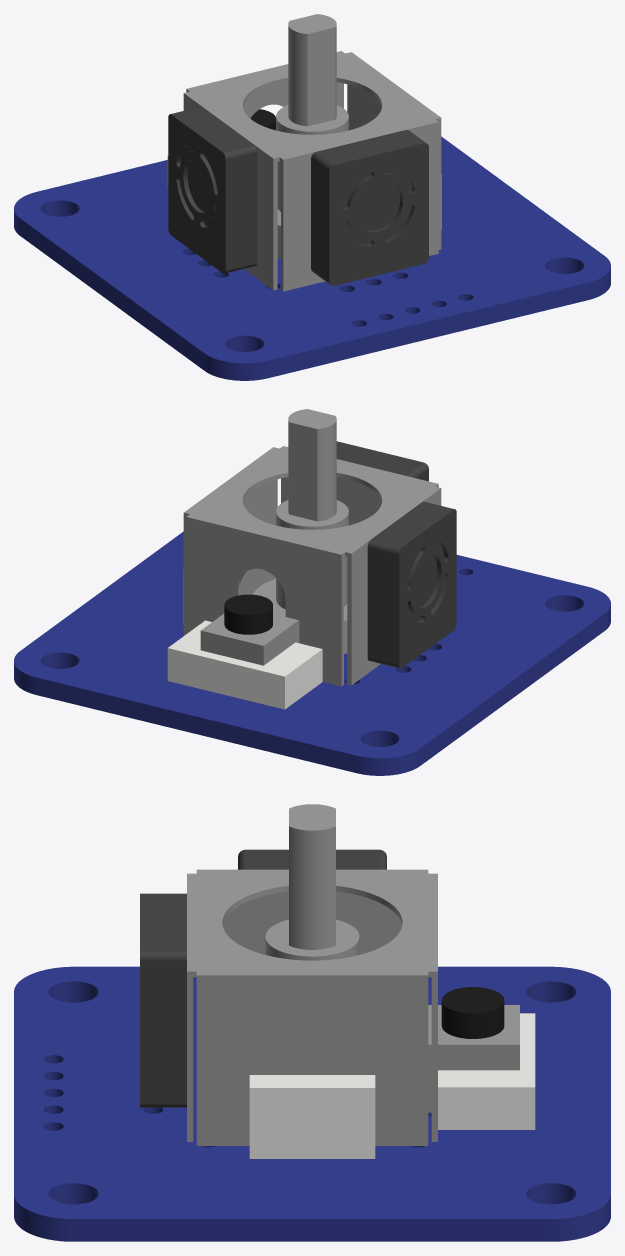
File: joystick.glb
3 views of the same model, one above another, from view 1: azimuth 30°, elevation 25°; view 2: azimuth 150°, elevation 25°; view 3: azimuth 270°, elevation 25° (orthographic). The views are drawn at different scales.
Parts seen in each view (by area): view 1: Analog 2-axis Joystick 512 v5, Analog 2-axis Joystick 512 v006, Analog 2-axis Joystick 512 v010, Analog 2-axis Joystick 512 v011, Analog 2-axis Joystick 512 v013; view 2: Analog 2-axis Joystick 512 v5, Analog 2-axis Joystick 512 v006, Analog 2-axis Joystick 512 v011, Analog 2-axis Joystick 512 v013, Analog 2-axis Joystick 512 v012, Analog 2-axis Joystick 512 v008, Analog 2-axis Joystick 512 v009, Analog 2-axis Joystick 512 v010; view 3: Analog 2-axis Joystick 512 v5, Analog 2-axis Joystick 512 v006, Analog 2-axis Joystick 512 v007, Analog 2-axis Joystick 512 v010, Analog 2-axis Joystick 512 v013, Analog 2-axis Joystick 512 v012, Analog 2-axis Joystick 512 v008, Analog 2-axis Joystick 512 v009, Analog 2-axis Joystick 512 v011.
Part boxes in pixels (left/top/right/bottom): Analog 2-axis Joystick 512 v5: left=14, top=136, right=610, bottom=380; Analog 2-axis Joystick 512 v006: left=183, top=51, right=441, bottom=291; Analog 2-axis Joystick 512 v010: left=311, top=130, right=428, bottom=285; Analog 2-axis Joystick 512 v011: left=168, top=106, right=257, bottom=273; Analog 2-axis Joystick 512 v013: left=276, top=14, right=348, bottom=258; Analog 2-axis Joystick 512 v5: left=14, top=531, right=610, bottom=775; Analog 2-axis Joystick 512 v006: left=183, top=446, right=441, bottom=686; Analog 2-axis Joystick 512 v011: left=367, top=501, right=456, bottom=668; Analog 2-axis Joystick 512 v013: left=253, top=409, right=348, bottom=653; Analog 2-axis Joystick 512 v012: left=167, top=620, right=322, bottom=709; Analog 2-axis Joystick 512 v008: left=200, top=613, right=299, bottom=665; Analog 2-axis Joystick 512 v009: left=224, top=594, right=272, bottom=634; Analog 2-axis Joystick 512 v010: left=336, top=441, right=428, bottom=481; Analog 2-axis Joystick 512 v5: left=14, top=966, right=610, bottom=1241; Analog 2-axis Joystick 512 v006: left=187, top=869, right=437, bottom=1145; Analog 2-axis Joystick 512 v007: left=249, top=1075, right=375, bottom=1158; Analog 2-axis Joystick 512 v010: left=140, top=893, right=186, bottom=1107; Analog 2-axis Joystick 512 v013: left=265, top=804, right=359, bottom=960; Analog 2-axis Joystick 512 v012: left=438, top=1013, right=535, bottom=1129; Analog 2-axis Joystick 512 v008: left=428, top=1005, right=519, bottom=1112; Analog 2-axis Joystick 512 v009: left=441, top=987, right=504, bottom=1038; Analog 2-axis Joystick 512 v011: left=238, top=849, right=386, bottom=869.
Bounding box in the file's own units: 0.0381 × 0.021 × 0.0381.
